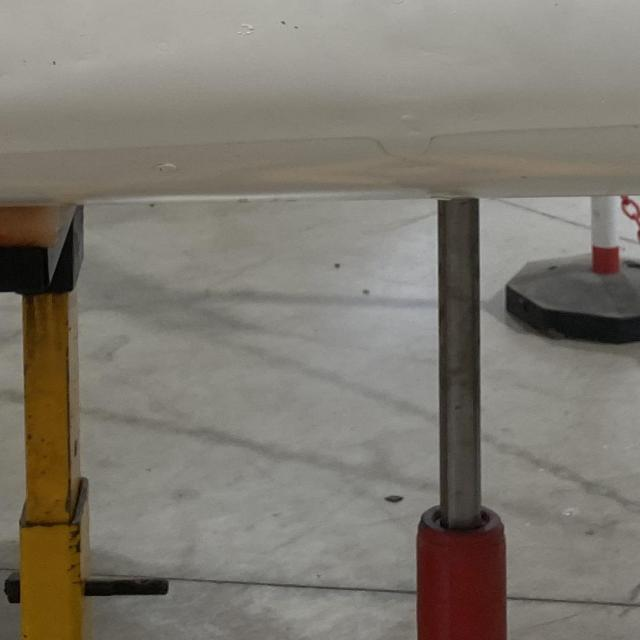Dent: (300, 0, 380, 3)
